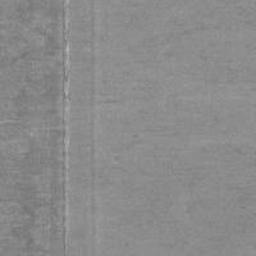Welding line: (61, 0, 72, 256)
